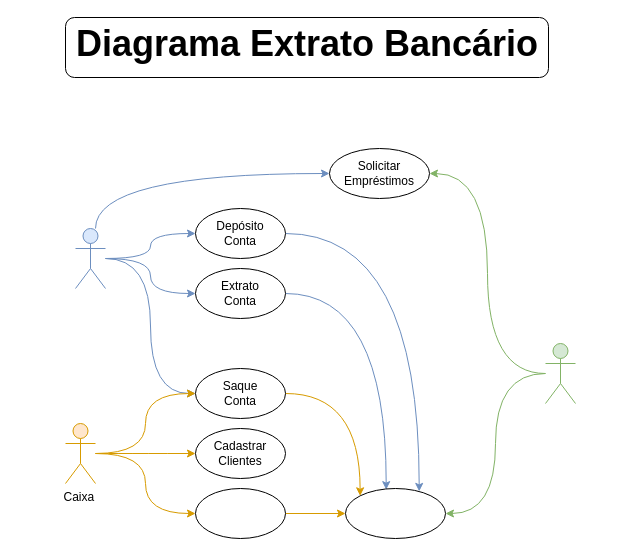
Some shapes in this 617 by 556 pixel diagram are drawn without their labels. The box of each missing label's shape, as (x1, y1, x2, y2) in pixels:
Cadastrar Contas: (194, 488, 286, 538)
Ciente: (74, 228, 106, 288)
Gerente Conta: (544, 342, 576, 404)
Movimentação Conta: (344, 488, 446, 538)
